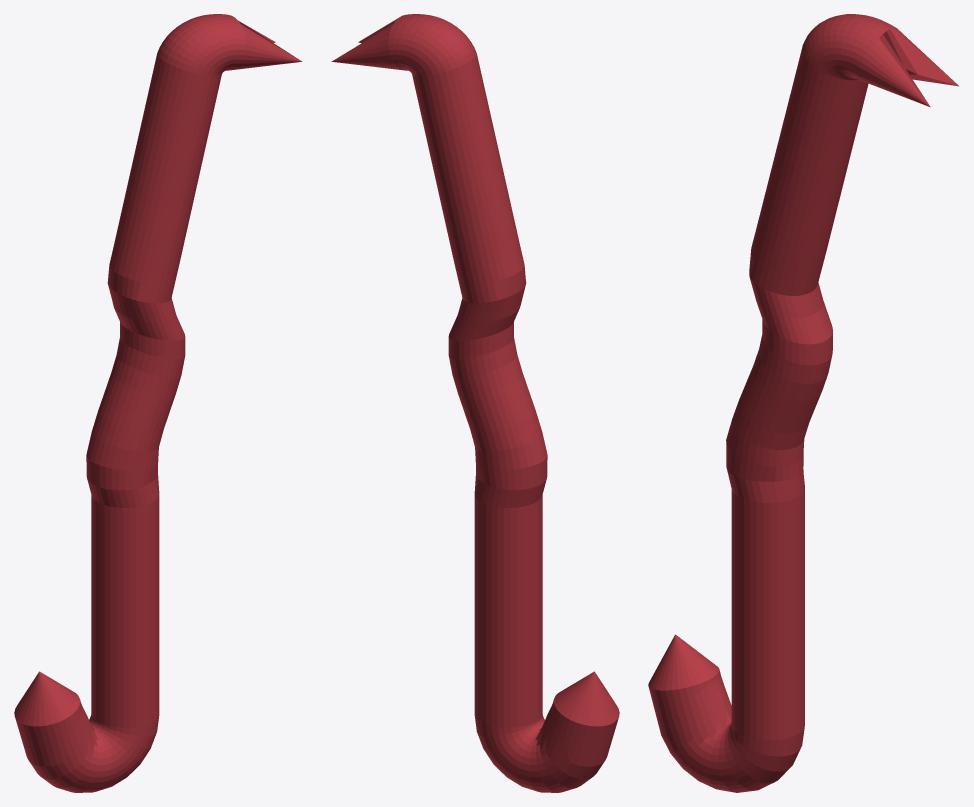
The model's file is Crowbar.fbx.
The picture shows the model from 3 angles, left to right: view 1: azimuth 30°, elevation 25°; view 2: azimuth 150°, elevation 25°; view 3: azimuth 330°, elevation 25°; orthographic projection. The views are drawn at different scales.
Parts seen in each view (by area): view 1: Cylinder; view 2: Cylinder; view 3: Cylinder.
Boxes of the visible parts, x1,y1,x2,y2 form: Cylinder: (14,14,302,792); Cylinder: (331,14,619,792); Cylinder: (648,14,958,792).
Size of the model in its own units: 0.9164 by 0.2 by 2.4.
